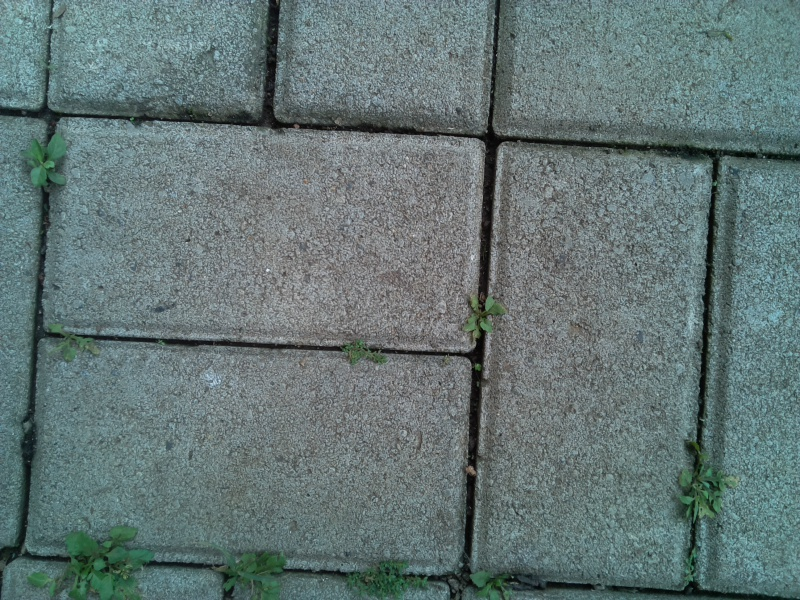Weed: (29, 523, 156, 600), (674, 437, 738, 527), (206, 542, 287, 597), (341, 556, 430, 600), (20, 130, 69, 194), (48, 323, 102, 364), (463, 562, 520, 600), (462, 293, 505, 343), (338, 338, 392, 370), (678, 538, 705, 591), (467, 358, 487, 378)
